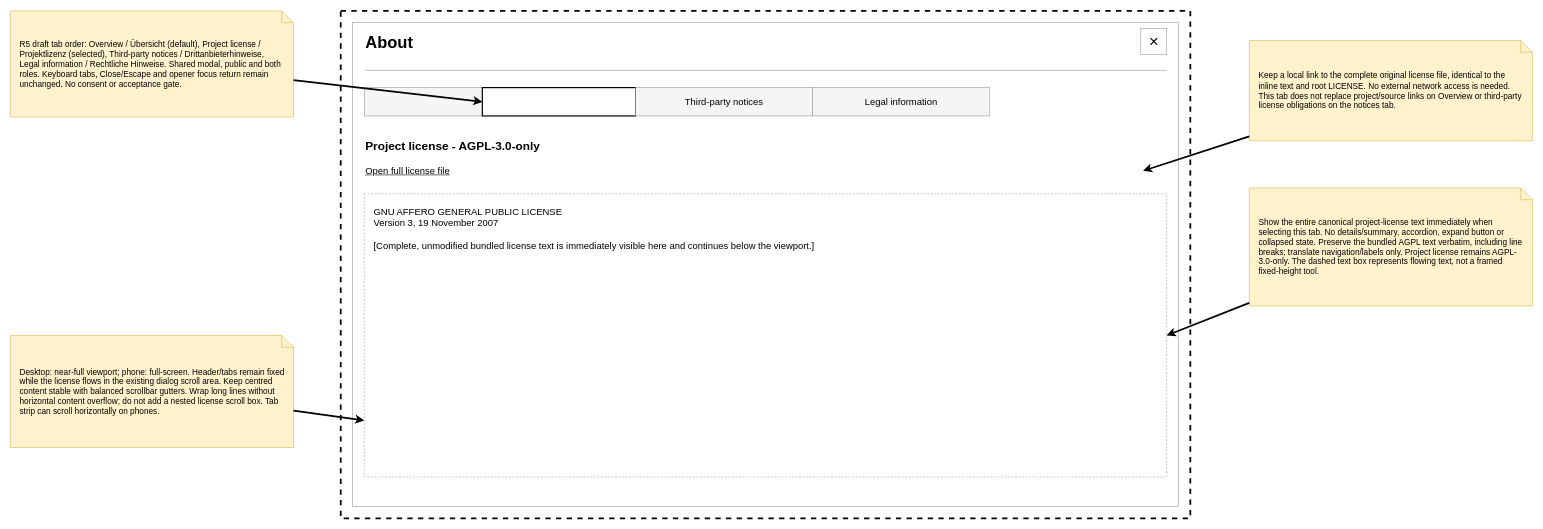
Some shapes in this 1543 by 529 pixel diagram are drawn without their labels. Here are the shapes that lost their labels. From the top down, the centre of each, then its label:
pixel 423 101: Overview
pixel 558 101: Project license
